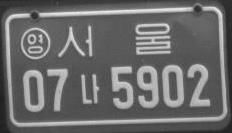0: (21, 68, 45, 113), (161, 63, 185, 108)
2: (186, 62, 211, 107)
5: (110, 65, 134, 110)
7: (45, 67, 69, 112)
9: (136, 64, 160, 109)
나: (79, 72, 100, 105)
서울_D: (57, 21, 171, 58)
영: (20, 27, 51, 59)
